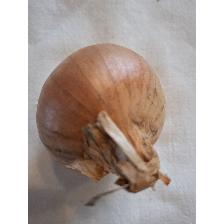Zwiebel: (33, 39, 172, 195)
